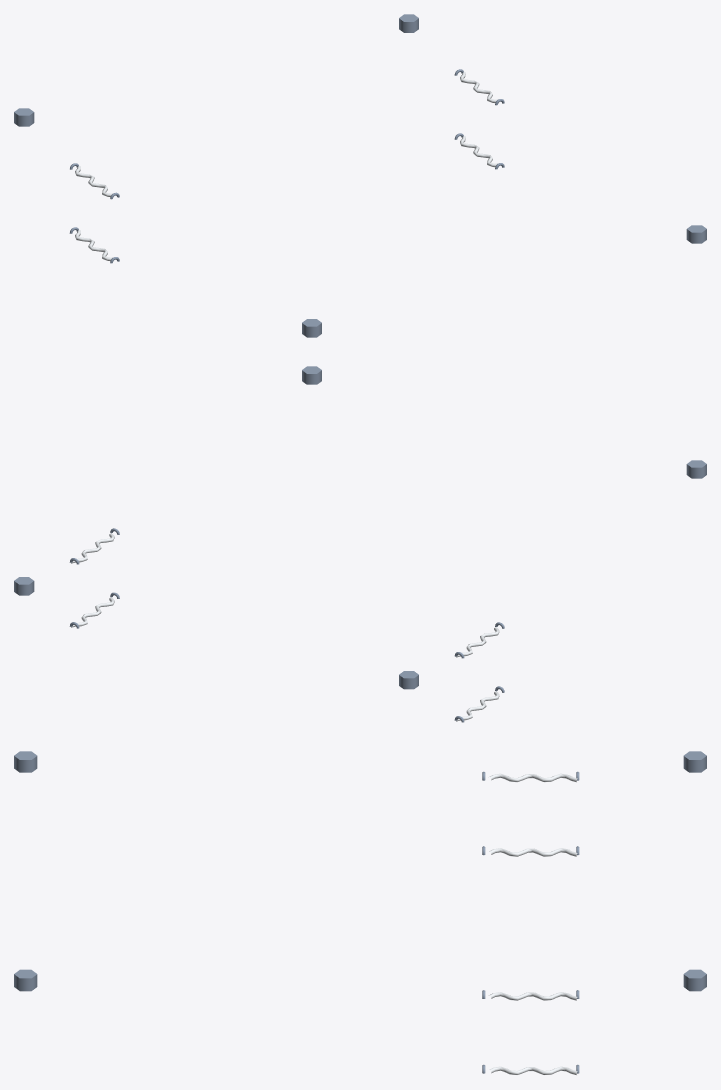
Rendered from exhaust_slip_springs.glb.
3 renders of one model, top to bottom at view 1: azimuth 30°, elevation 25°; view 2: azimuth 150°, elevation 25°; view 3: azimuth 270°, elevation 25°, orthographic. The views are drawn at different scales.
Visible parts, largest first — view 1: Exhaust_Slip_Springs_Bungs_Assembly; view 2: Exhaust_Slip_Springs_Bungs_Assembly; view 3: Exhaust_Slip_Springs_Bungs_Assembly.
Boxes of the visible parts, <box> form: Exhaust_Slip_Springs_Bungs_Assembly: <box>14,14,706,337</box>; Exhaust_Slip_Springs_Bungs_Assembly: <box>14,366,706,722</box>; Exhaust_Slip_Springs_Bungs_Assembly: <box>14,751,706,1075</box>.
Size of the model in its own units: 0.4574 by 0.093 by 0.59.
